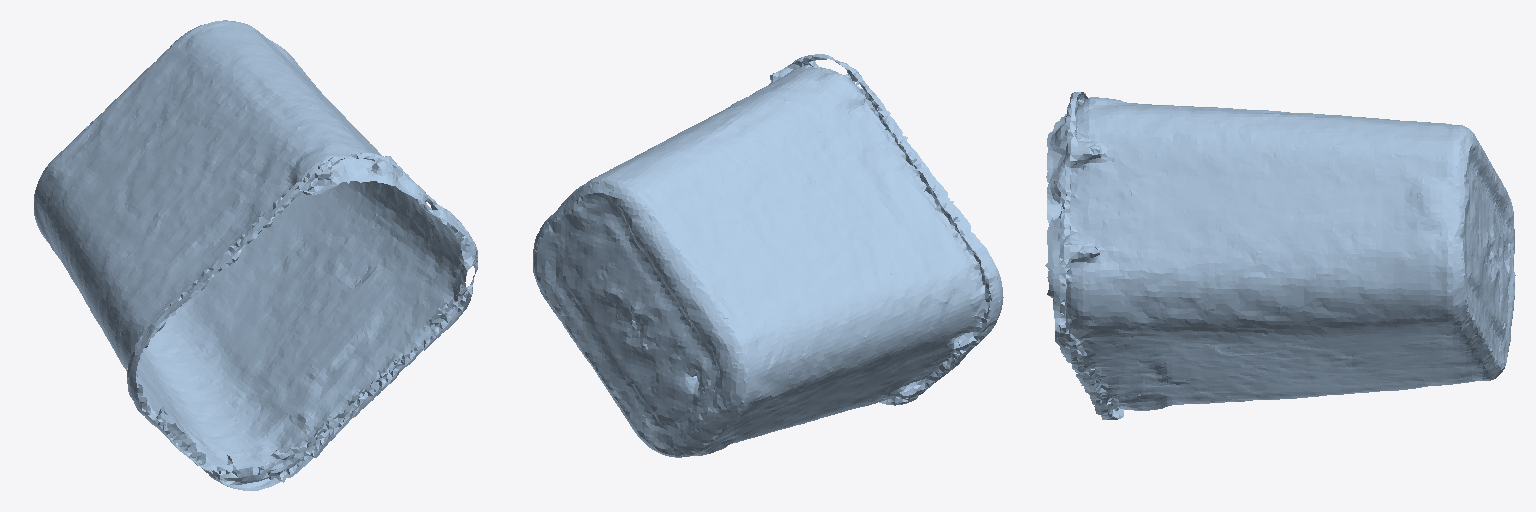
URDF robot description (trashcan.urdf):
<?xml version="1.0" ?>
<robot name="trashcan.urdf">
  <dynamics damping="0.5" friction="0.9"/>
  <link name="baseLink">
    <contact>
      <lateral_friction value="0.9"/>
      <rolling_friction value="0.5"/>
      <stiffness value="30000"/>
      <damping value="1000"/>
    </contact>
    <visual>
      <origin rpy="0 0 0" xyz="0 0 0"/>
      <geometry>
        <mesh filename="objects/trashcan/trashcan.obj" scale="1.0 1.0 1.0"/>
      </geometry>
       <material name="mat">
        <color rgba="0.7 0.8 0.9 1"/>
      </material>
    </visual>
    <collision>
      <origin rpy="0 0 0" xyz="0 0 0"/>
      <geometry>
	 	<mesh filename="objects/trashcan/trashcan.obj" scale="1.0 1.0 1.0"/>
      </geometry>
    </collision>
  </link>
</robot>

--- Facts derived from the render (not from the file) ---
The picture shows the robot from 3 angles, left to right: view 1: azimuth 30°, elevation 25°; view 2: azimuth 150°, elevation 25°; view 3: azimuth 270°, elevation 25°; orthographic projection.
Model trashcan.urdf with 1 links and 0 joints (none), rooted at baseLink, posed all joints at 0.
Links seen in each view (by area): view 1: baseLink; view 2: baseLink; view 3: baseLink.
Link boxes in pixels (left/top/right/bottom): baseLink: left=34, top=20, right=477, bottom=490; baseLink: left=533, top=54, right=1003, bottom=457; baseLink: left=1045, top=92, right=1515, bottom=419.
Bounding box of the posed robot: 0.3262 × 0.3683 × 0.3054 m (x, y, z).
1 mesh visuals loaded from 1 distinct referenced files (1 OBJ).